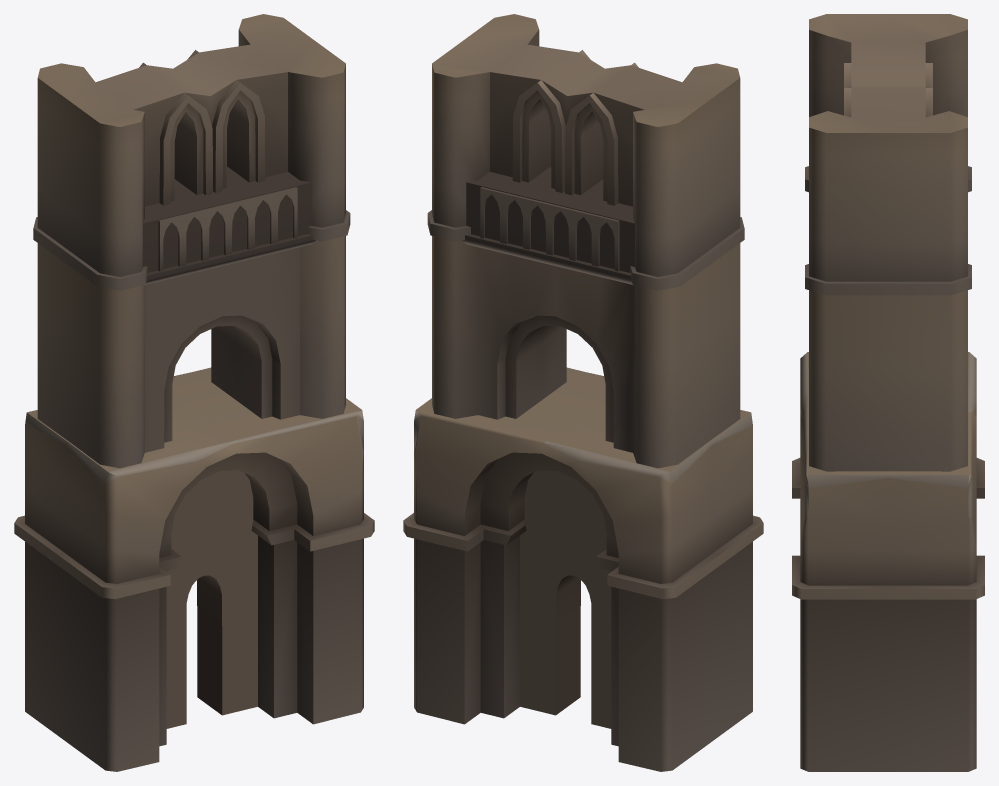
File: Ruins_CathedralRuins_alt29.glb
The picture shows the model from 3 angles, left to right: view 1: azimuth 30°, elevation 25°; view 2: azimuth 150°, elevation 25°; view 3: azimuth 270°, elevation 25°; orthographic projection.
Visible parts, largest first — view 1: base112; view 2: base112; view 3: base112.
Part boxes in pixels (x1,y1,x2,y2): base112: [14, 14, 374, 771]; base112: [403, 14, 763, 771]; base112: [792, 14, 984, 771].
Size of the model in its own units: 10.2 by 22.88 by 6.3.
